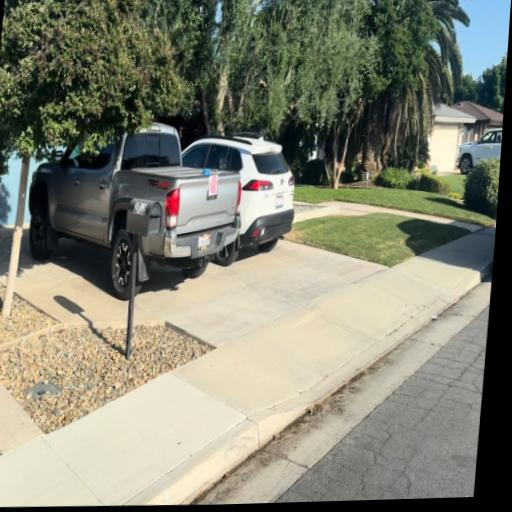bullseye: (209, 175, 218, 196)
